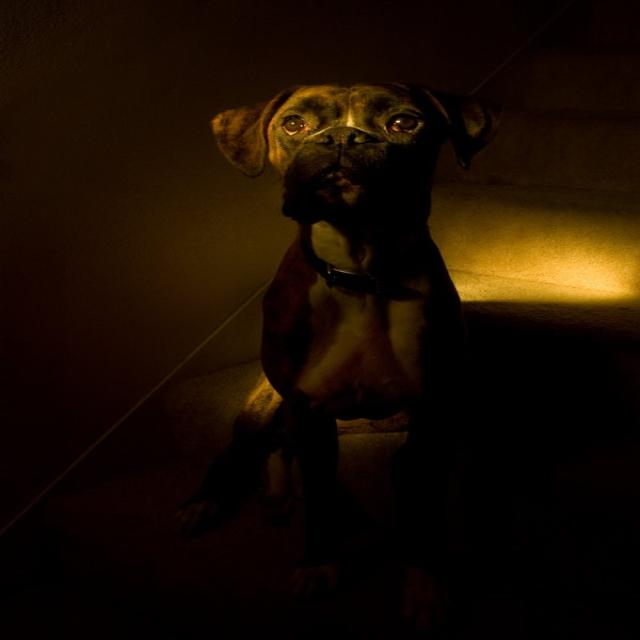dog: (189, 54, 563, 602)
